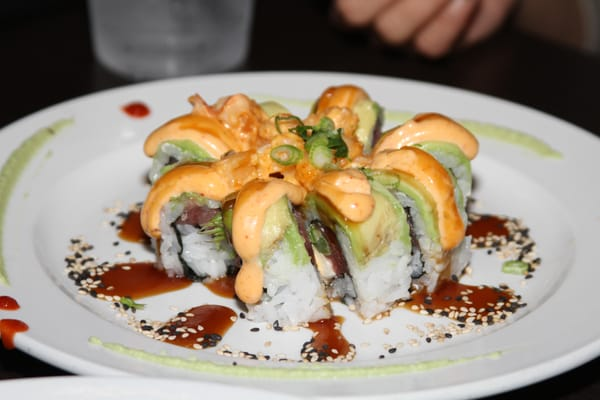pizza: (86, 0, 256, 82)
